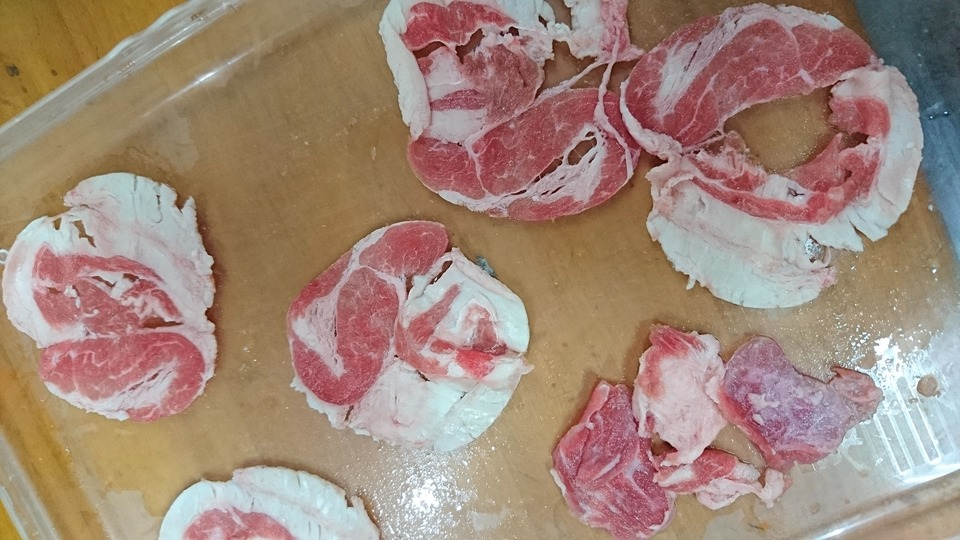restructured meat: (627, 1, 934, 312), (547, 320, 903, 539), (371, 1, 642, 224), (291, 213, 529, 462), (6, 177, 222, 426)
